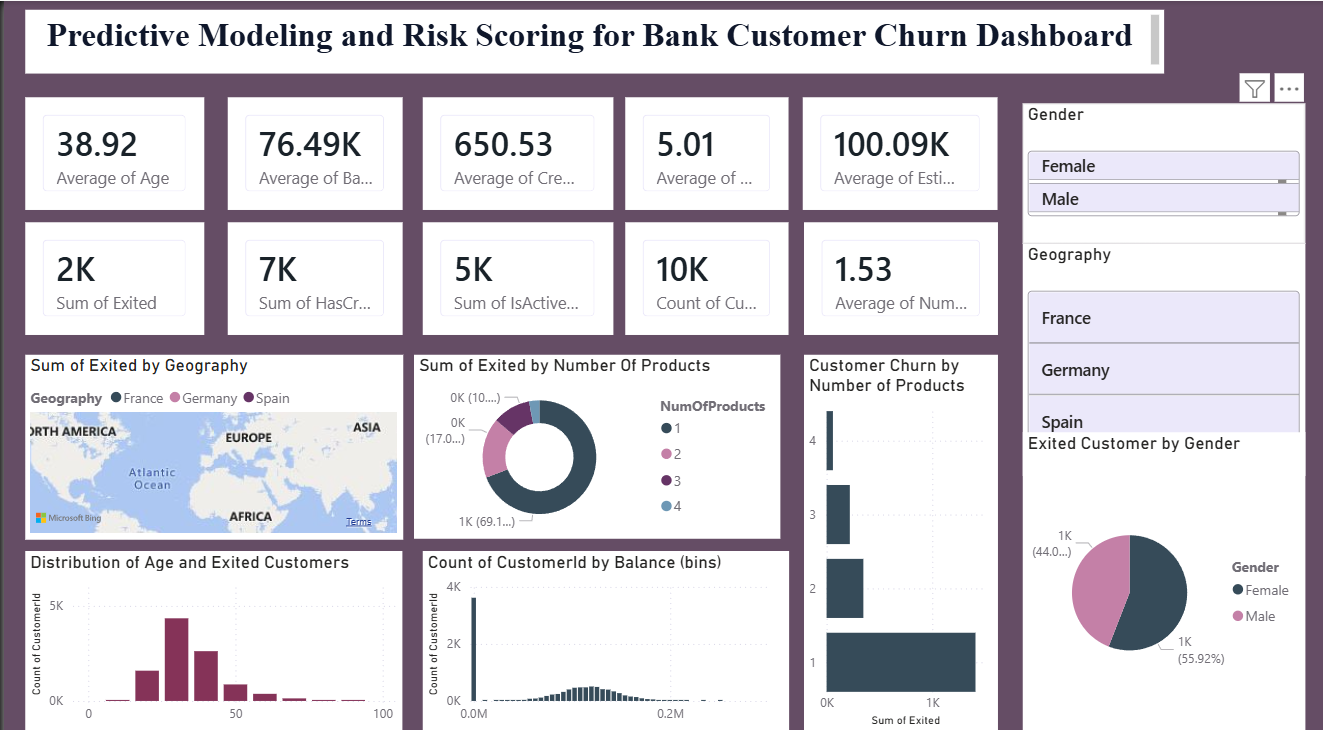

This screenshot's page, from the dashboard's own definition file:
{"tool":"powerbi","page":{"name":"Page 1","canvas":[1280,720],"ordinal":0},"visuals":[{"type":"textbox","box":[20.5,8.4,1099.1,61.5],"z":0},{"type":"cardVisual","fields":{"Data":["Avg(European_Bank.Age)"]},"box":[20,92.5,172.5,108.8],"z":1000},{"type":"cardVisual","fields":{"Data":["Avg(European_Bank.Balance)"]},"box":[216.2,92.5,168.8,108.8],"z":2000},{"type":"cardVisual","fields":{"Data":["Avg(European_Bank.CreditScore)"]},"box":[403.8,92.5,183.8,108.8],"z":3000},{"type":"cardVisual","fields":{"Data":["Avg(European_Bank.Tenure)"]},"box":[600,92.5,157.5,108.8],"z":4000},{"type":"cardVisual","fields":{"Data":["Avg(European_Bank.EstimatedSalary)"]},"box":[770.9,92.9,188.2,108.6],"z":5000},{"type":"cardVisual","fields":{"Data":["Sum(European_Bank.Exited)"]},"box":[20,213.8,172.5,108.8],"z":6000},{"type":"cardVisual","fields":{"Data":["Sum(European_Bank.HasCrCard)"]},"box":[216.2,213.8,168.8,108.8],"z":7000},{"type":"cardVisual","fields":{"Data":["Avg(European_Bank.NumOfProducts)"]},"box":[772.5,213.8,187.5,108.8],"z":8000},{"type":"cardVisual","fields":{"Data":["Count(European_Bank.CustomerId)"]},"box":[600,213.8,157.5,108.8],"z":9000},{"type":"cardVisual","fields":{"Data":["Sum(European_Bank.IsActiveMember)"]},"box":[403.8,213.8,183.8,108.8],"z":10000},{"type":"cardVisual","title":"  Geography","fields":{"Rows":["European_Bank.Geography"],"Data":["Min(European_Bank.Geography)"]},"box":[983.2,234,272.7,224.4],"z":11000},{"type":"cardVisual","title":" Gender","fields":{"Rows":["European_Bank.Gender"]},"box":[983.2,98.9,272.7,135.1],"z":12000},{"type":"pieChart","title":"Exited Customer by Gender","fields":{"Category":["European_Bank.Gender"],"Y":["Sum(European_Bank.Exited)"]},"box":[983.2,416.2,272.7,289.5],"z":13000},{"type":"filledMap","fields":{"Series":["European_Bank.Geography"]},"box":[20.5,341.4,364.3,177.3],"z":14000},{"type":"columnChart","title":"Distribution of Age and Exited Customers","fields":{"Category":["European_Bank.Age (bins)"],"Y":["CountNonNull(European_Bank.CustomerId)"]},"box":[20.5,530.8,364.3,174.9],"z":15000},{"type":"donutChart","title":"Sum of Exited by Number Of Products","fields":{"Category":["European_Bank.NumOfProducts"],"Y":["Sum(European_Bank.Exited)"]},"box":[395.7,341.4,353.5,177.3],"z":16000},{"type":"clusteredBarChart","title":"Customer Churn by Number of Products","fields":{"Category":["European_Bank.NumOfProducts"],"Y":["Sum(European_Bank.Exited)"]},"box":[772.1,341.4,187,364.3],"z":17000},{"type":"columnChart","fields":{"Category":["European_Bank.Balance (bins)"],"Y":["CountNonNull(European_Bank.CustomerId)"]},"box":[404.2,530.8,353.5,174.9],"z":18000}]}

Visuals, with their boxes in screenshot pixels (x1, y1, x2, y2), scaled from the page's 1280x720 canvas onto the 1323x730 screenshot:
textbox: {"x1": 21, "y1": 9, "x2": 1157, "y2": 71}
cardVisual - Avg(European_Bank.Age): {"x1": 21, "y1": 94, "x2": 199, "y2": 204}
cardVisual - Avg(European_Bank.Balance): {"x1": 223, "y1": 94, "x2": 398, "y2": 204}
cardVisual - Avg(European_Bank.CreditScore): {"x1": 417, "y1": 94, "x2": 607, "y2": 204}
cardVisual - Avg(European_Bank.Tenure): {"x1": 620, "y1": 94, "x2": 783, "y2": 204}
cardVisual - Avg(European_Bank.EstimatedSalary): {"x1": 797, "y1": 94, "x2": 991, "y2": 204}
cardVisual - Sum(European_Bank.Exited): {"x1": 21, "y1": 217, "x2": 199, "y2": 327}
cardVisual - Sum(European_Bank.HasCrCard): {"x1": 223, "y1": 217, "x2": 398, "y2": 327}
cardVisual - Avg(European_Bank.NumOfProducts): {"x1": 798, "y1": 217, "x2": 992, "y2": 327}
cardVisual - Count(European_Bank.CustomerId): {"x1": 620, "y1": 217, "x2": 783, "y2": 327}
cardVisual - Sum(European_Bank.IsActiveMember): {"x1": 417, "y1": 217, "x2": 607, "y2": 327}
"  Geography" cardVisual: {"x1": 1016, "y1": 237, "x2": 1298, "y2": 465}
" Gender" cardVisual: {"x1": 1016, "y1": 100, "x2": 1298, "y2": 237}
"Exited Customer by Gender" pieChart: {"x1": 1016, "y1": 422, "x2": 1298, "y2": 716}
filledMap - European_Bank.Geography: {"x1": 21, "y1": 346, "x2": 398, "y2": 526}
"Distribution of Age and Exited Customers" columnChart: {"x1": 21, "y1": 538, "x2": 398, "y2": 716}
"Sum of Exited by Number Of Products" donutChart: {"x1": 409, "y1": 346, "x2": 774, "y2": 526}
"Customer Churn by Number of Products" clusteredBarChart: {"x1": 798, "y1": 346, "x2": 991, "y2": 716}
columnChart - European_Bank.Balance (bins) x CountNonNull(European_Bank.CustomerId): {"x1": 418, "y1": 538, "x2": 783, "y2": 716}
